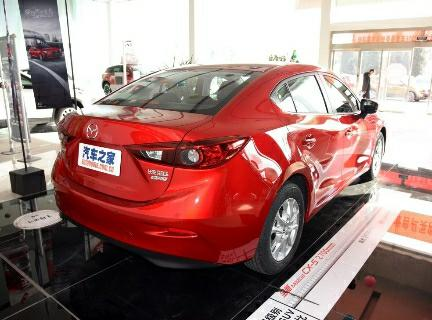car: (44, 49, 399, 277)
